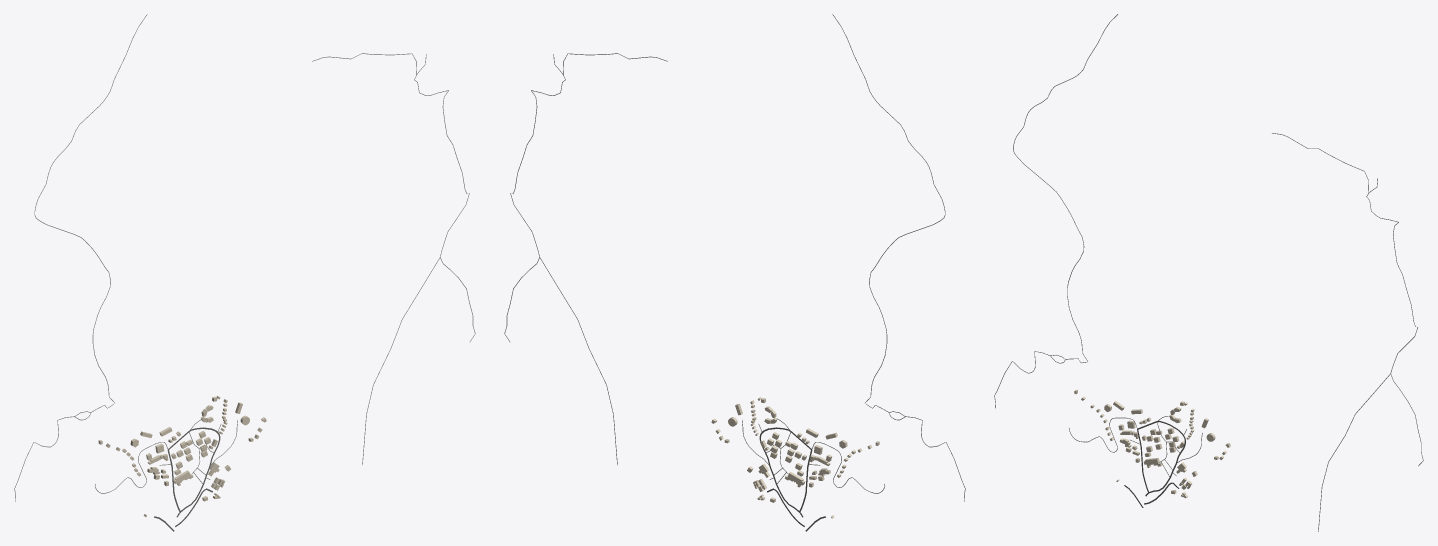
File: historic-palestine-12_21_3539_3159.glb
The picture shows the model from 3 angles, left to right: view 1: azimuth 30°, elevation 25°; view 2: azimuth 150°, elevation 25°; view 3: azimuth 330°, elevation 25°; orthographic projection. The views are drawn at different scales.
Bounding box in the file's own units: 1089 × 1183 × 8.7.
